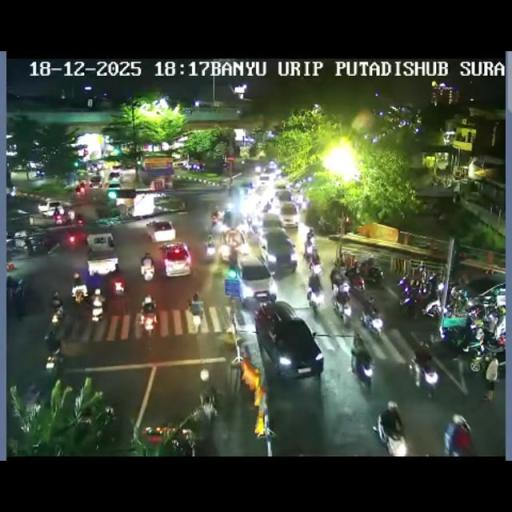Car: (254, 302, 323, 380), (258, 227, 296, 272), (240, 263, 276, 304), (86, 234, 119, 276), (159, 242, 192, 276), (152, 194, 186, 214), (146, 220, 176, 242), (20, 234, 50, 256), (114, 187, 137, 213), (38, 199, 68, 218), (278, 202, 298, 226), (253, 182, 272, 205), (274, 189, 293, 206), (118, 167, 135, 184), (107, 172, 122, 189), (258, 172, 272, 185), (89, 175, 102, 188), (274, 180, 288, 190)
Motorcycle: (49, 274, 111, 352), (408, 342, 438, 394), (216, 329, 242, 387), (438, 317, 478, 354), (375, 412, 408, 456), (423, 286, 461, 322), (95, 408, 125, 452), (479, 321, 505, 358), (350, 346, 374, 384), (446, 427, 476, 456), (169, 427, 195, 456), (400, 286, 422, 318), (199, 390, 219, 424), (361, 304, 383, 334), (332, 290, 351, 322), (188, 292, 204, 330), (140, 302, 158, 334), (306, 284, 324, 314), (44, 344, 62, 374), (24, 384, 42, 410), (362, 264, 383, 286), (71, 274, 87, 302), (346, 269, 366, 291), (14, 286, 27, 318), (465, 303, 485, 323), (202, 238, 216, 262), (90, 298, 104, 322), (318, 216, 336, 234), (306, 248, 321, 269), (50, 306, 64, 327), (140, 260, 154, 281), (330, 270, 344, 289), (6, 276, 18, 298), (218, 243, 231, 262), (112, 278, 125, 296), (287, 181, 302, 194), (250, 218, 262, 234), (52, 290, 62, 308), (74, 212, 86, 226), (398, 274, 408, 290), (66, 208, 76, 222), (306, 228, 314, 244), (210, 211, 220, 223), (220, 179, 230, 191), (76, 182, 86, 194), (262, 201, 271, 213), (437, 282, 445, 291)
